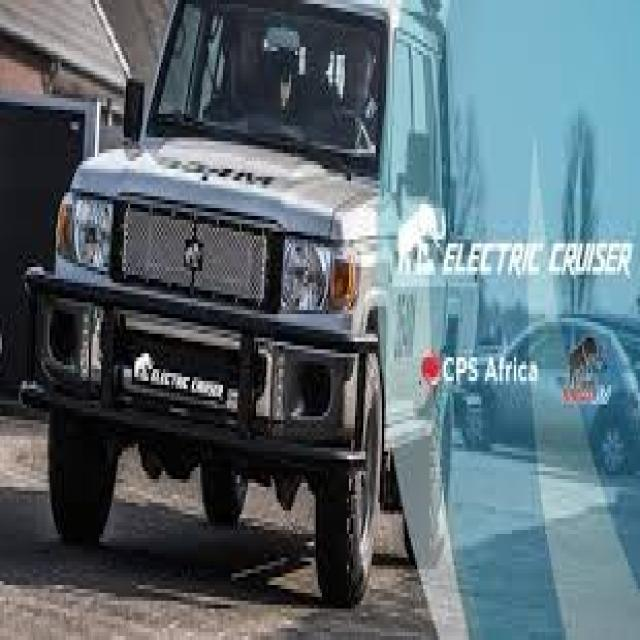light_vehicle: (35, 0, 465, 597)
